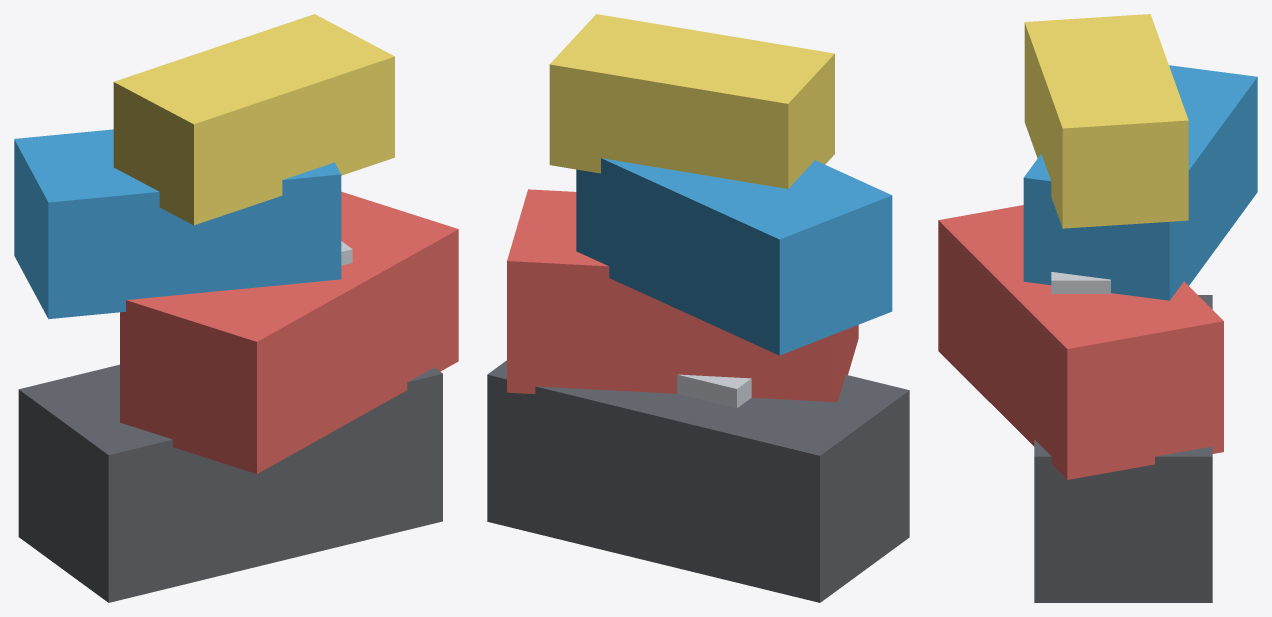
Rendered from velodrome-and-track-cycling-kit-bag-pile-f3c8e589__38027.glb.
The picture shows the model from 3 angles, left to right: view 1: azimuth 30°, elevation 25°; view 2: azimuth 150°, elevation 25°; view 3: azimuth 270°, elevation 25°; orthographic projection.
Parts seen in each view (by area): view 1: kit-bag-pile-charcoal, kit-bag-pile-red, kit-bag-pile-canary, kit-bag-pile-azure; view 2: kit-bag-pile-charcoal, kit-bag-pile-azure, kit-bag-pile-canary, kit-bag-pile-red, kit-bag-pile-steel; view 3: kit-bag-pile-red, kit-bag-pile-canary, kit-bag-pile-charcoal, kit-bag-pile-azure, kit-bag-pile-steel.
Boxes of the visible parts, left/top/right/bottom form: kit-bag-pile-charcoal: left=18, top=364, right=442, bottom=602; kit-bag-pile-red: left=120, top=191, right=458, bottom=473; kit-bag-pile-canary: left=113, top=14, right=394, bottom=225; kit-bag-pile-azure: left=14, top=129, right=341, bottom=319; kit-bag-pile-charcoal: left=487, top=360, right=909, bottom=602; kit-bag-pile-azure: left=576, top=158, right=892, bottom=355; kit-bag-pile-canary: left=549, top=14, right=834, bottom=188; kit-bag-pile-red: left=507, top=189, right=858, bottom=402; kit-bag-pile-steel: left=677, top=374, right=751, bottom=408; kit-bag-pile-red: left=938, top=205, right=1223, bottom=479; kit-bag-pile-canary: left=1024, top=14, right=1188, bottom=228; kit-bag-pile-charcoal: left=1034, top=295, right=1212, bottom=602; kit-bag-pile-azure: left=1023, top=65, right=1257, bottom=300; kit-bag-pile-steel: left=1051, top=272, right=1110, bottom=293.
Bounding box in the file's own units: 1.04 × 1.19 × 0.7515.
